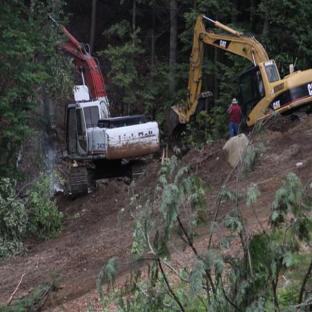ExcavationMachinery: (36, 10, 161, 206), (167, 13, 311, 176)
